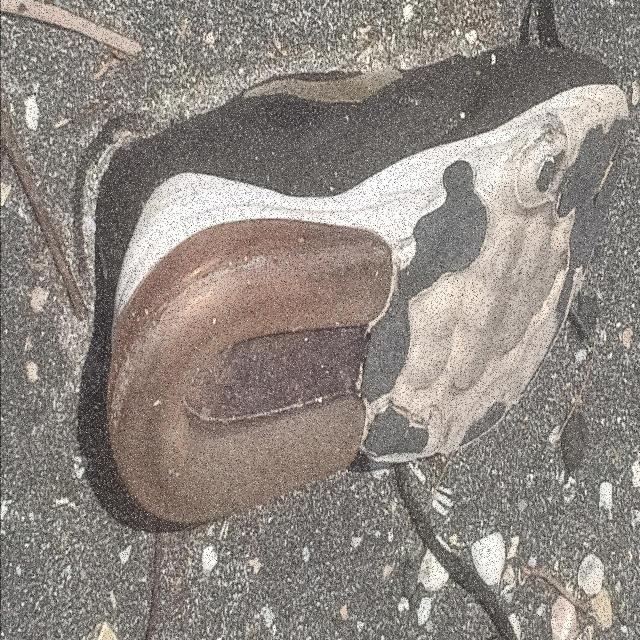rubber_waste: (92, 41, 633, 531)
